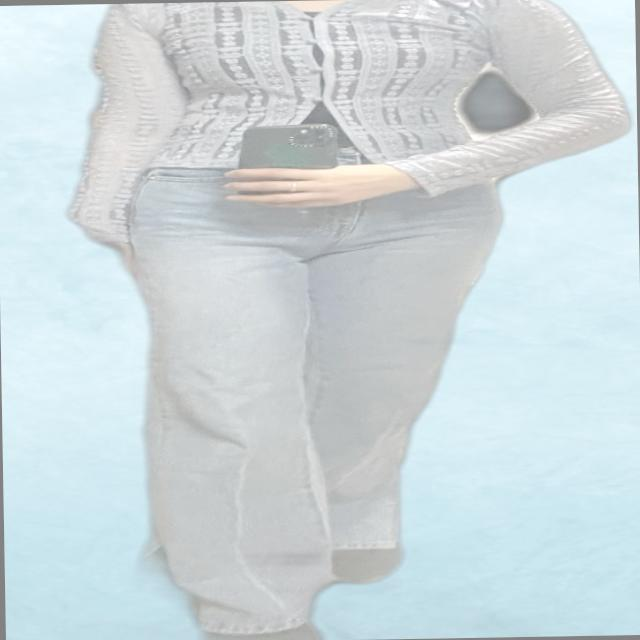cardigan: (63, 0, 635, 248)
denimpants: (121, 145, 514, 638)
